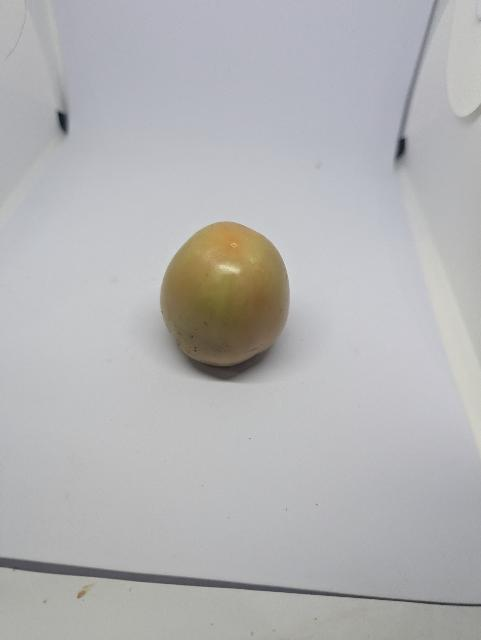breaker: (153, 212, 303, 386)
